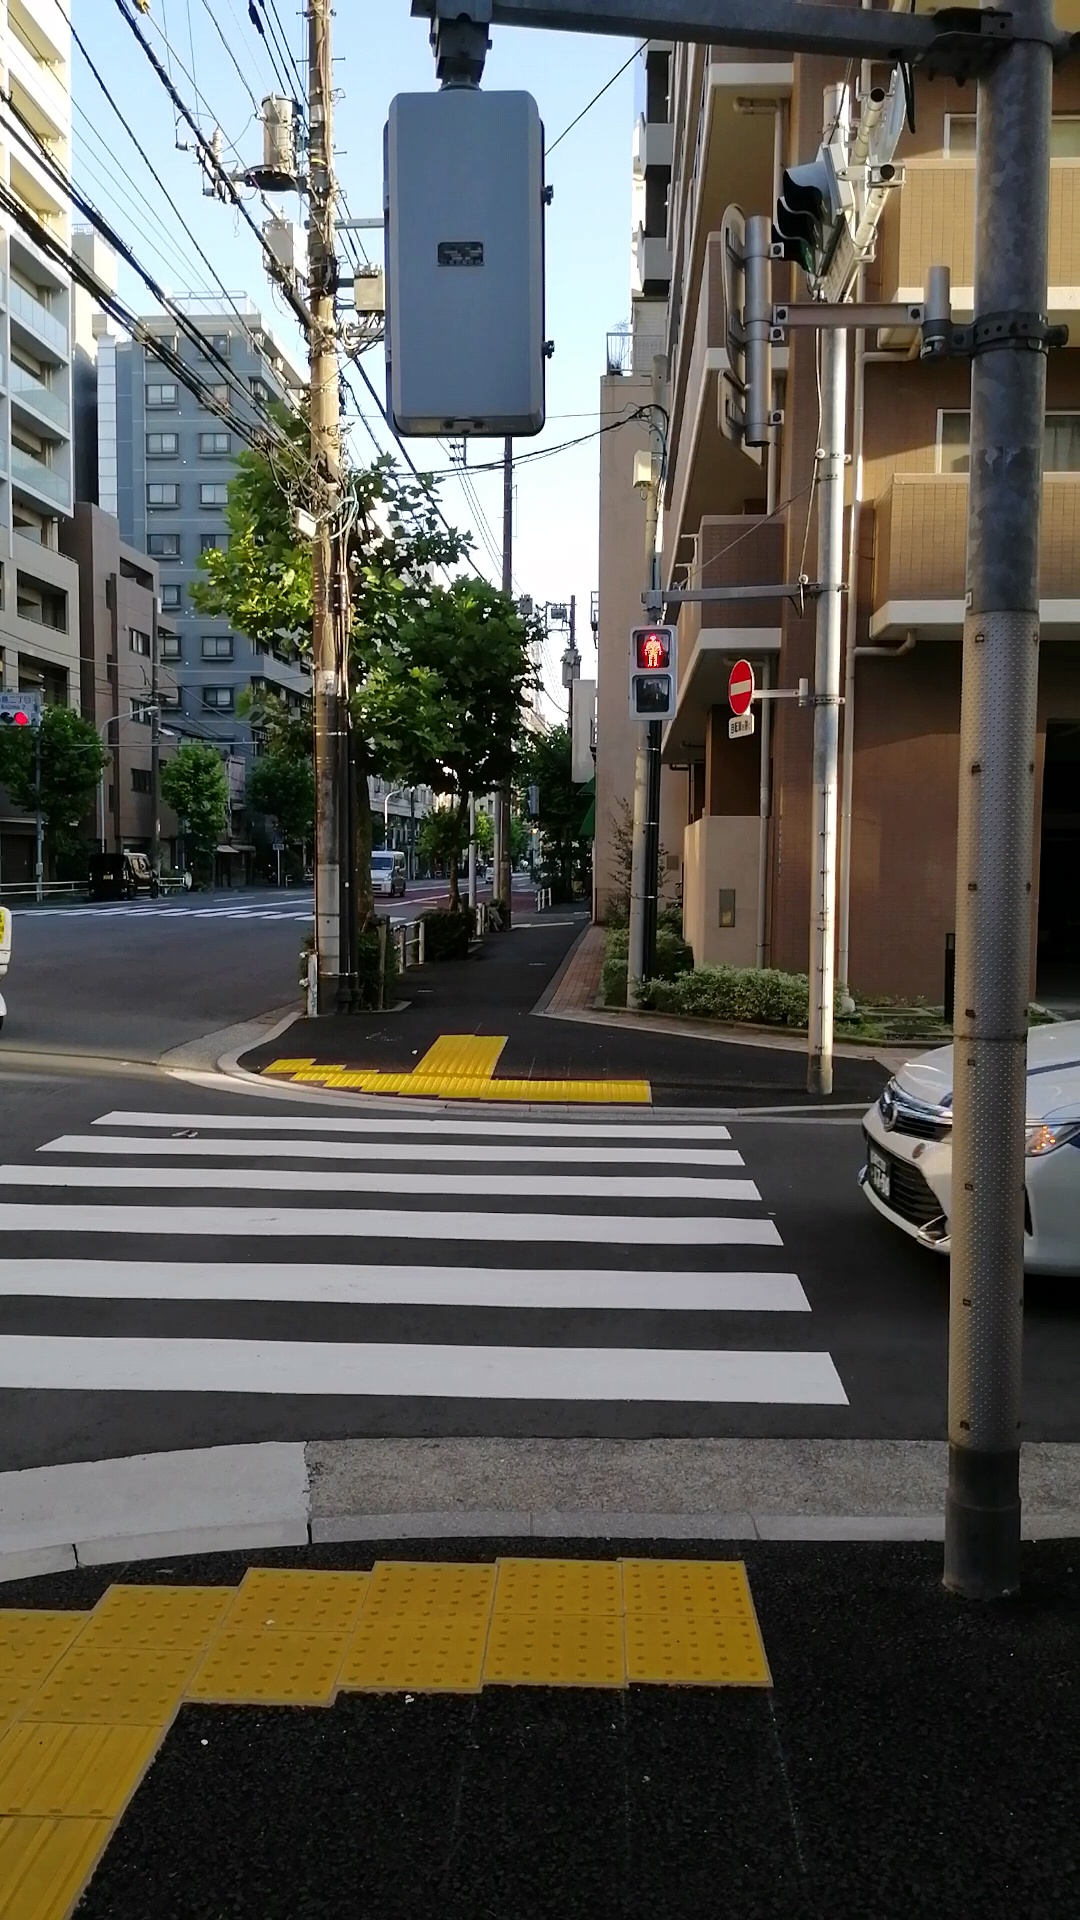red: (629, 624, 678, 719)
